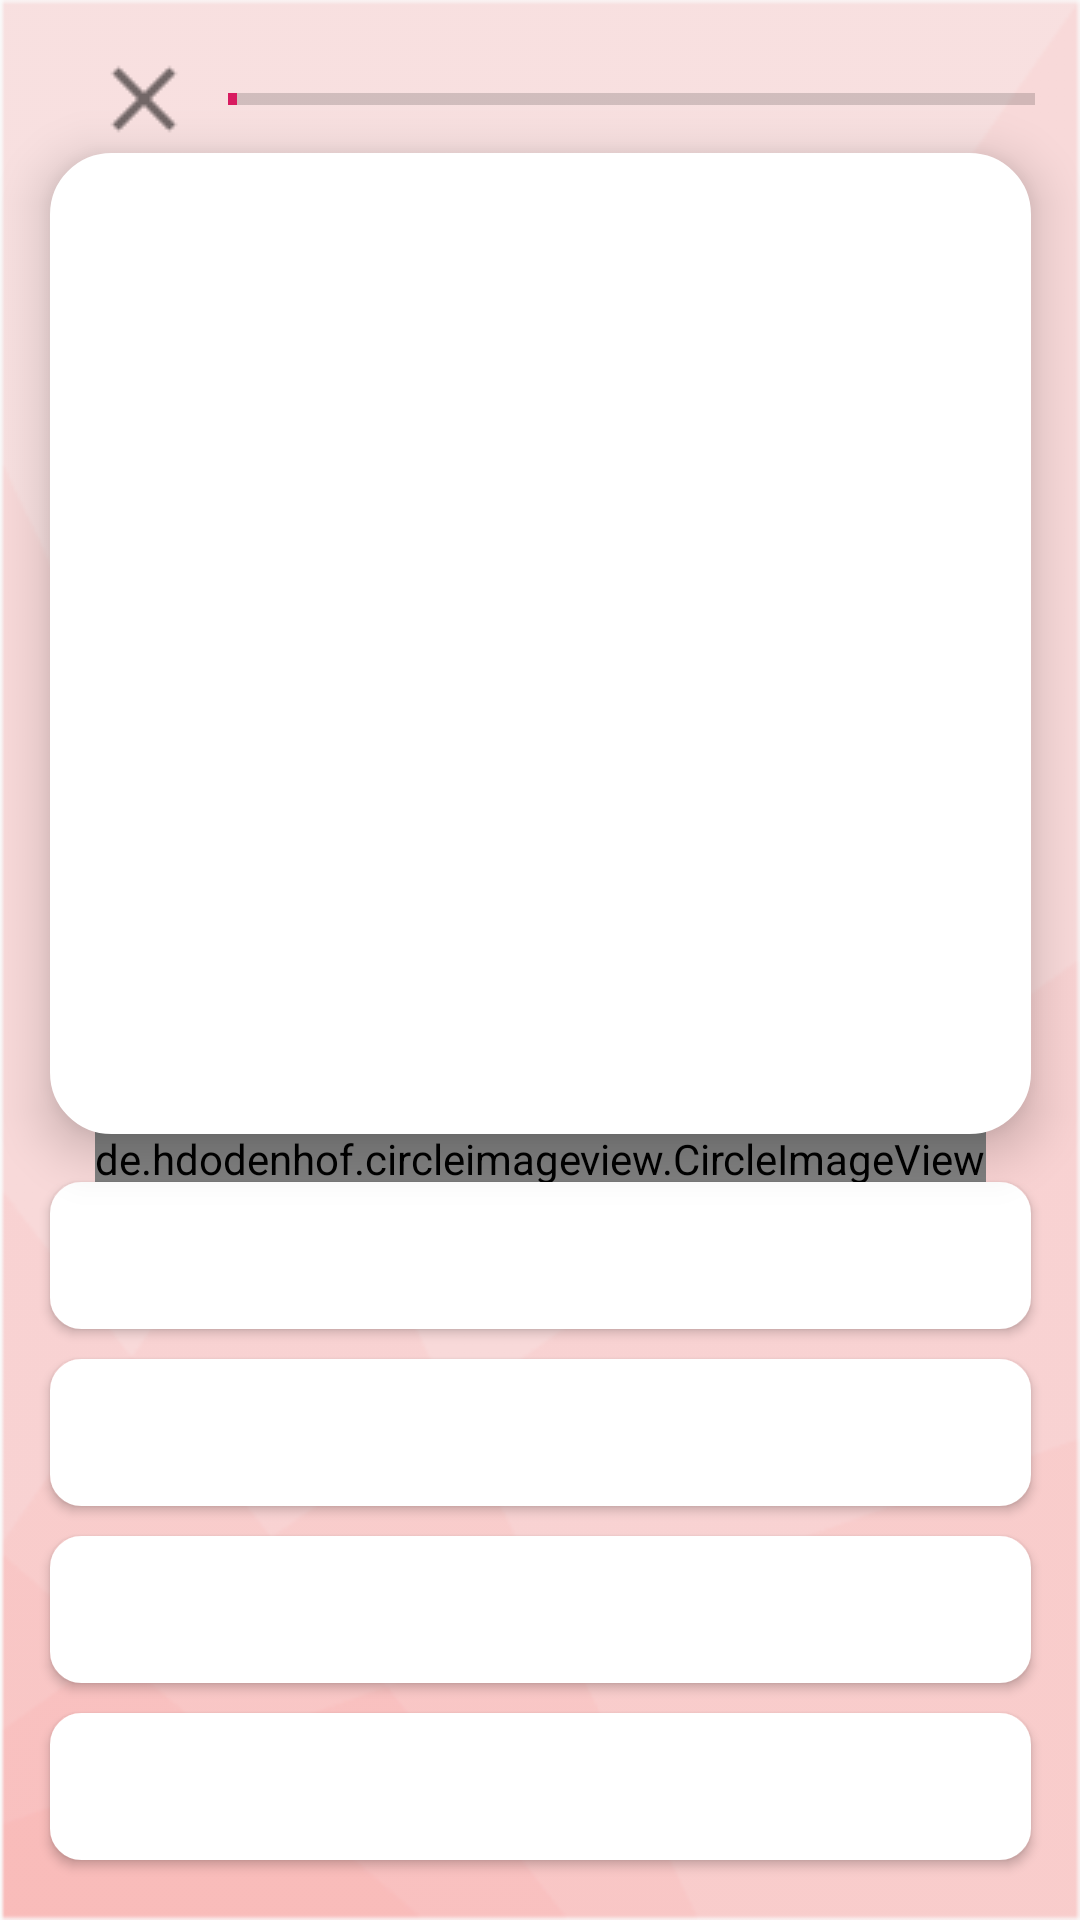

Icons on this 1080×1920 Android screen, each with the point to tap as (x=x, y=y):
close fragment card: (x=144, y=99)
